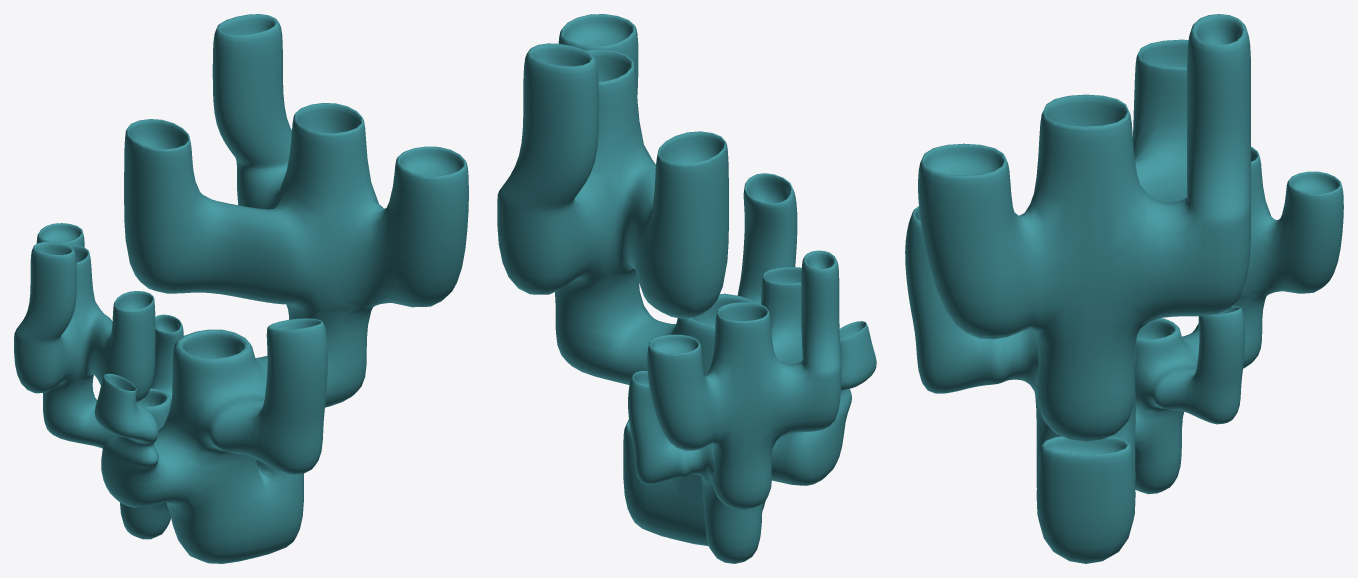
File: CoralAzul.fbx
3 renders of one model, left to right at view 1: azimuth 30°, elevation 25°; view 2: azimuth 150°, elevation 25°; view 3: azimuth 270°, elevation 25°, orthographic. The views are drawn at different scales.
Parts seen in each view (by area): view 1: Cube.004; view 2: Cube.004; view 3: Cube.004.
Boxes of the visible parts, bbox=[...] form: Cube.004: bbox=[14, 14, 468, 563]; Cube.004: bbox=[497, 14, 876, 563]; Cube.004: bbox=[905, 14, 1343, 563].
Size of the model in its own units: 917 by 1184 by 850.
